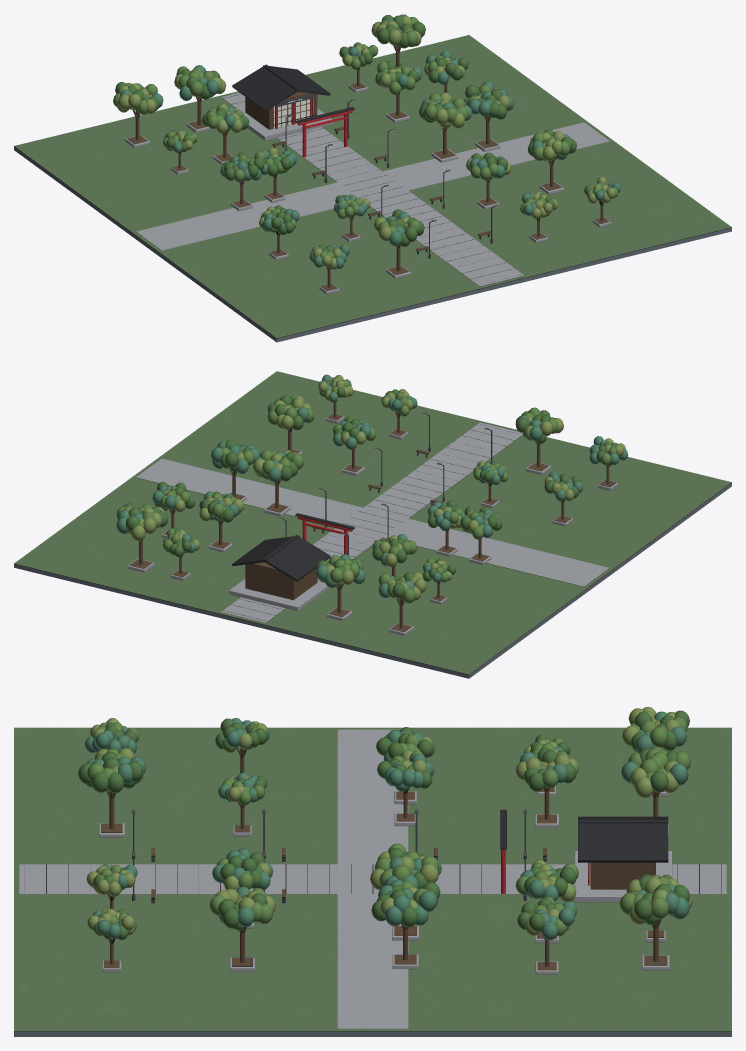
Rendered from park.glb.
3 views of the same model, one above another, from view 1: azimuth 30°, elevation 25°; view 2: azimuth 150°, elevation 25°; view 3: azimuth 270°, elevation 25° (orthographic). The views are drawn at different scales.
Parts seen in each view (by area): view 1: Batch_Mossy park ground, Batch_Concrete light, Batch_Leaves 0, Batch_Leaves 2, Batch_Leaves 1, Batch_Leaves 3, Batch_Tree bark, Batch_Concrete shadow, Batch_Charcoal fabric, Batch_Graphite metal, Batch_Vermilion, Batch_Warm ivory; view 2: Batch_Mossy park ground, Batch_Concrete light, Batch_Leaves 3, Batch_Leaves 0, Batch_Leaves 2, Batch_Leaves 1, Batch_Tree bark, Batch_Concrete shadow, Batch_Charcoal fabric, Batch_Graphite metal; view 3: Batch_Mossy park ground, Batch_Concrete light, Batch_Leaves 0, Batch_Leaves 3, Batch_Leaves 2, Batch_Leaves 1, Batch_Tree bark, Batch_Concrete shadow, Batch_Charcoal fabric, Batch_Graphite metal.
Part boxes in pixels (left/top/right/bottom): Batch_Mossy park ground: left=14, top=35, right=731, bottom=338; Batch_Concrete light: left=125, top=82, right=611, bottom=294; Batch_Leaves 0: left=115, top=15, right=611, bottom=252; Batch_Leaves 2: left=117, top=15, right=615, bottom=269; Batch_Leaves 1: left=113, top=17, right=618, bottom=259; Batch_Leaves 3: left=119, top=14, right=620, bottom=268; Batch_Tree bark: left=127, top=45, right=609, bottom=290; Batch_Concrete shadow: left=14, top=94, right=731, bottom=342; Batch_Charcoal fabric: left=232, top=64, right=354, bottom=123; Batch_Graphite metal: left=273, top=93, right=498, bottom=258; Batch_Vermilion: left=275, top=93, right=352, bottom=157; Batch_Warm ivory: left=273, top=98, right=313, bottom=128; Batch_Mossy park ground: left=14, top=371, right=731, bottom=674; Batch_Concrete light: left=127, top=414, right=617, bottom=635; Batch_Leaves 3: left=116, top=374, right=627, bottom=598; Batch_Leaves 0: left=123, top=380, right=616, bottom=598; Batch_Leaves 2: left=124, top=375, right=625, bottom=600; Batch_Leaves 1: left=116, top=377, right=622, bottom=603; Batch_Tree bark: left=129, top=401, right=616, bottom=631; Batch_Concrete shadow: left=14, top=424, right=731, bottom=678; Batch_Charcoal fabric: left=232, top=513, right=354, bottom=581; Batch_Graphite metal: left=279, top=412, right=492, bottom=555; Batch_Mossy park ground: left=14, top=727, right=731, bottom=1031; Batch_Concrete light: left=19, top=729, right=726, bottom=1028; Batch_Leaves 0: left=78, top=710, right=690, bottom=939; Batch_Leaves 3: left=85, top=711, right=689, bottom=940; Batch_Leaves 2: left=86, top=707, right=692, bottom=935; Batch_Leaves 1: left=87, top=717, right=690, bottom=936; Batch_Tree bark: left=101, top=747, right=667, bottom=970; Batch_Concrete shadow: left=14, top=864, right=731, bottom=1036; Batch_Charcoal fabric: left=500, top=809, right=668, bottom=862; Batch_Graphite metal: left=132, top=809, right=546, bottom=903.
Bounding box in the file's own units: 66 × 8.97 × 66.
Materials: 14 (12 with a texture image).
